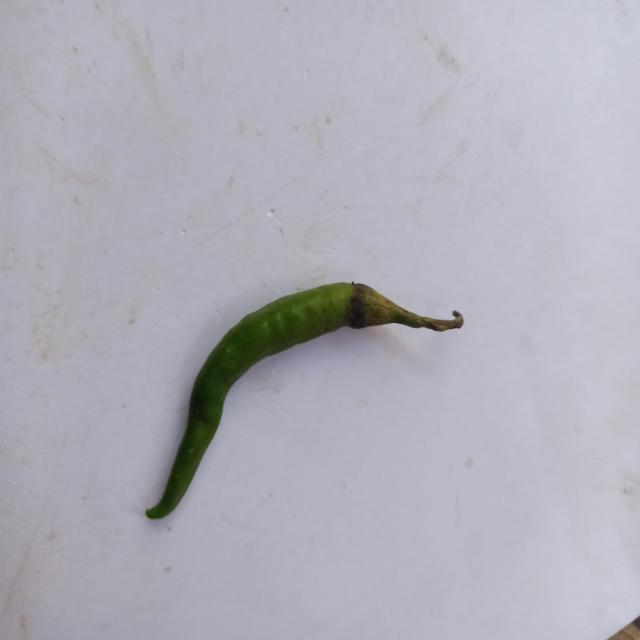Green Chilly: (145, 282, 464, 519)
